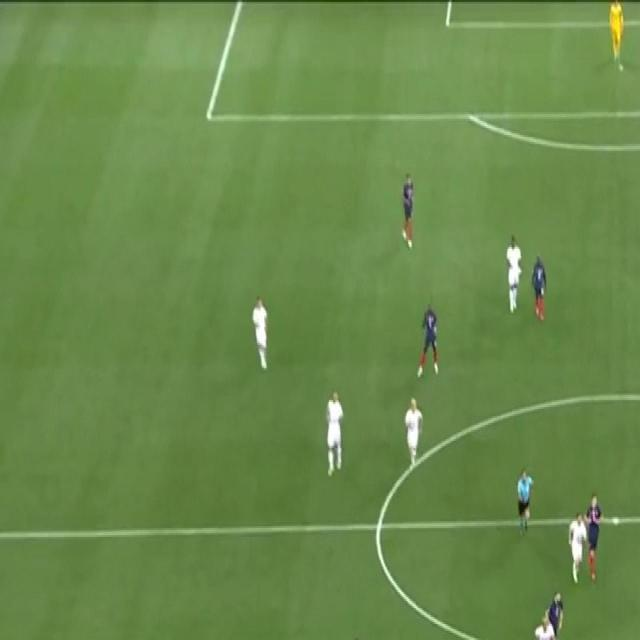player-white: (581, 489, 605, 585), (416, 292, 441, 381), (565, 506, 591, 590), (322, 388, 346, 476), (401, 395, 424, 477), (503, 230, 524, 317), (513, 468, 537, 542), (249, 290, 270, 374), (398, 166, 417, 256), (529, 250, 548, 328), (606, 0, 626, 73), (545, 586, 566, 640), (529, 611, 556, 640), (340, 629, 369, 640)
